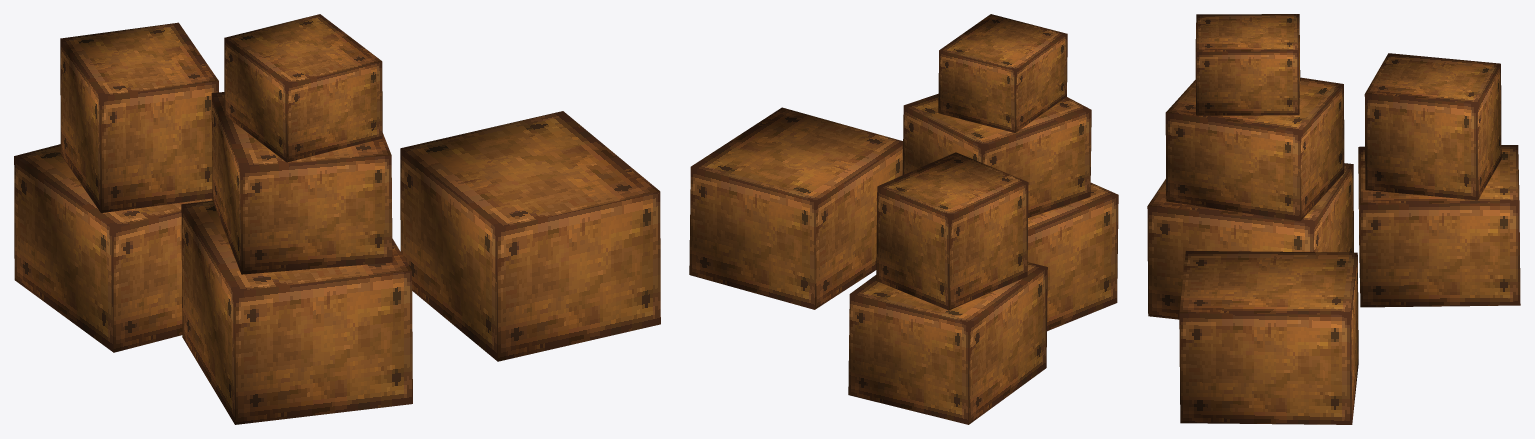
Rendered from deadminecargoboxes.glb.
The picture shows the model from 3 angles, left to right: view 1: azimuth 30°, elevation 25°; view 2: azimuth 150°, elevation 25°; view 3: azimuth 270°, elevation 25°; orthographic projection. The views are drawn at different scales.
Bounding box in the file's own units: 2.57 × 1.78 × 2.26.
1 material, 1 textured.
